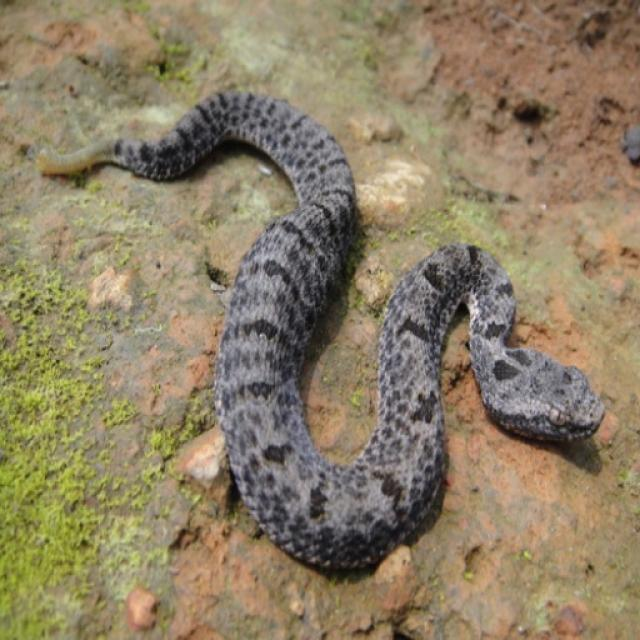snake: (29, 80, 618, 613)
